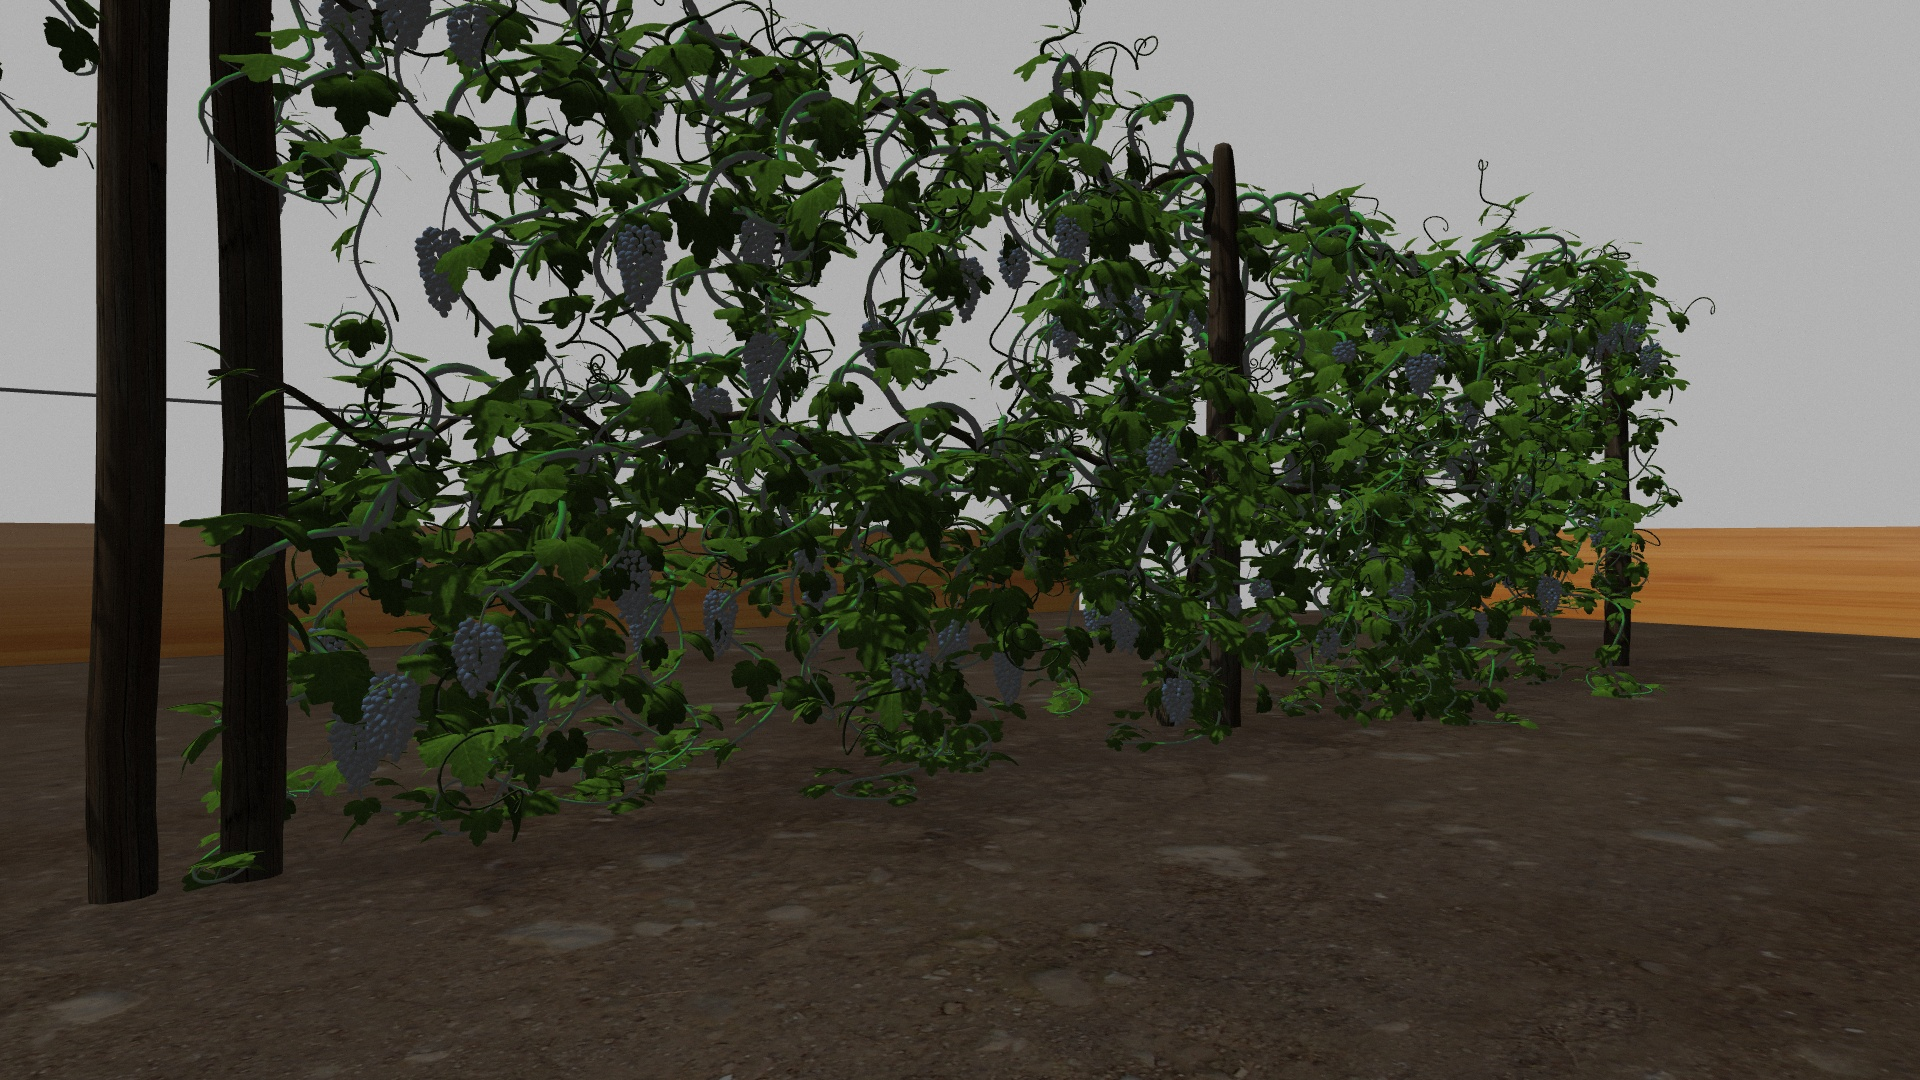grape: (410, 228, 467, 316), (613, 222, 667, 314), (363, 676, 425, 757), (451, 613, 506, 702), (327, 713, 382, 793), (319, 8, 375, 66), (609, 551, 651, 624), (740, 330, 789, 389), (448, 9, 496, 69), (949, 256, 986, 324), (702, 589, 738, 653), (1052, 212, 1091, 273), (378, 8, 431, 51), (738, 218, 775, 276), (990, 649, 1026, 707), (1160, 676, 1199, 728), (630, 604, 666, 658), (1106, 608, 1143, 655), (998, 243, 1031, 291), (938, 618, 971, 666), (891, 653, 934, 690), (1147, 430, 1179, 477), (1406, 351, 1435, 400), (1316, 624, 1342, 666), (1596, 320, 1625, 355), (1390, 566, 1418, 601), (1538, 576, 1563, 615), (1331, 338, 1358, 367), (1247, 576, 1276, 601), (1640, 345, 1663, 375), (1083, 607, 1105, 629)
